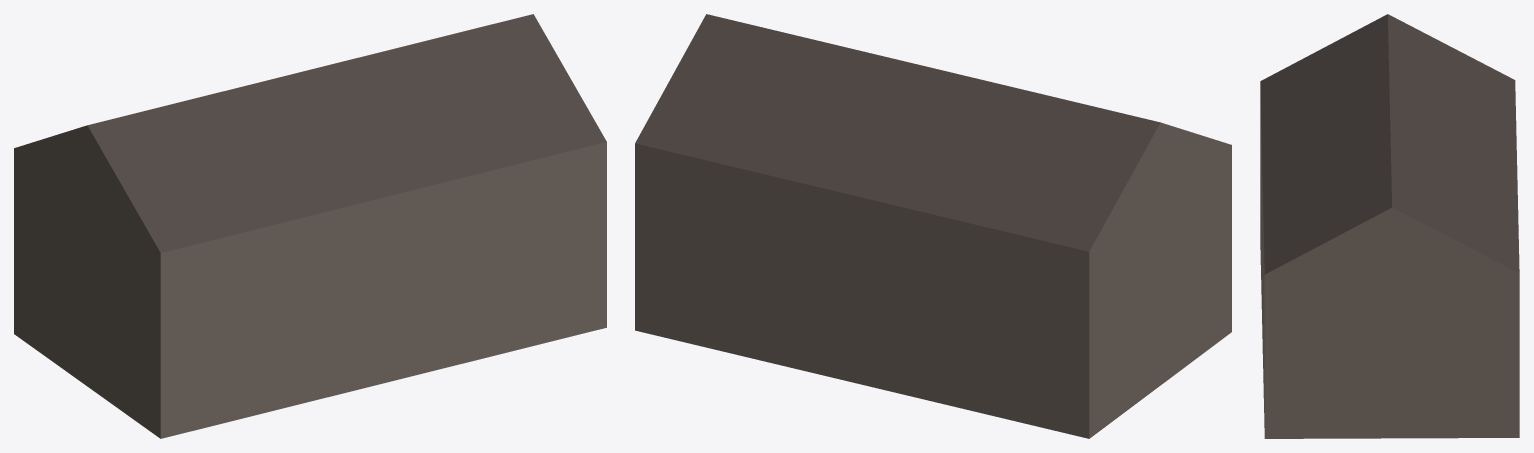
3 views of the same model, side by side, from view 1: azimuth 30°, elevation 25°; view 2: azimuth 150°, elevation 25°; view 3: azimuth 270°, elevation 25° (orthographic). The views are drawn at different scales.
Visible parts, largest first — view 1: HP-w1318374452; view 2: HP-w1318374452; view 3: HP-w1318374452.
Boxes of the visible parts, bbox=[...] form: HP-w1318374452: bbox=[14, 14, 606, 438]; HP-w1318374452: bbox=[635, 14, 1231, 438]; HP-w1318374452: bbox=[1260, 14, 1519, 438].
Size of the model in its own units: 15.25 by 8.44 by 8.58.
